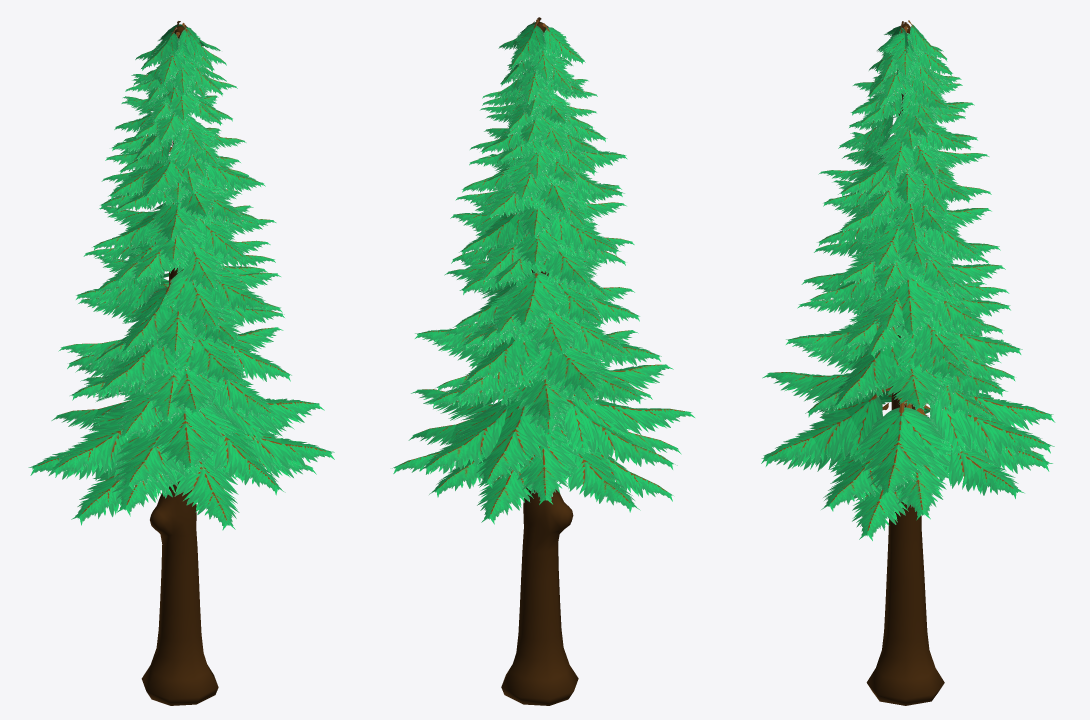
The model's file is PineTreeTall.fbx.
The picture shows the model from 3 angles, left to right: view 1: azimuth 30°, elevation 25°; view 2: azimuth 150°, elevation 25°; view 3: azimuth 270°, elevation 25°; orthographic projection.
Parts seen in each view (by area): view 1: pinetree; view 2: pinetree; view 3: pinetree.
Boxes of the visible parts, x1,y1,x2,y2 form: pinetree: (28,21,334,705); pinetree: (392,17,694,705); pinetree: (761,20,1055,705).
Bounding box in the file's own units: 357 × 808 × 367.
